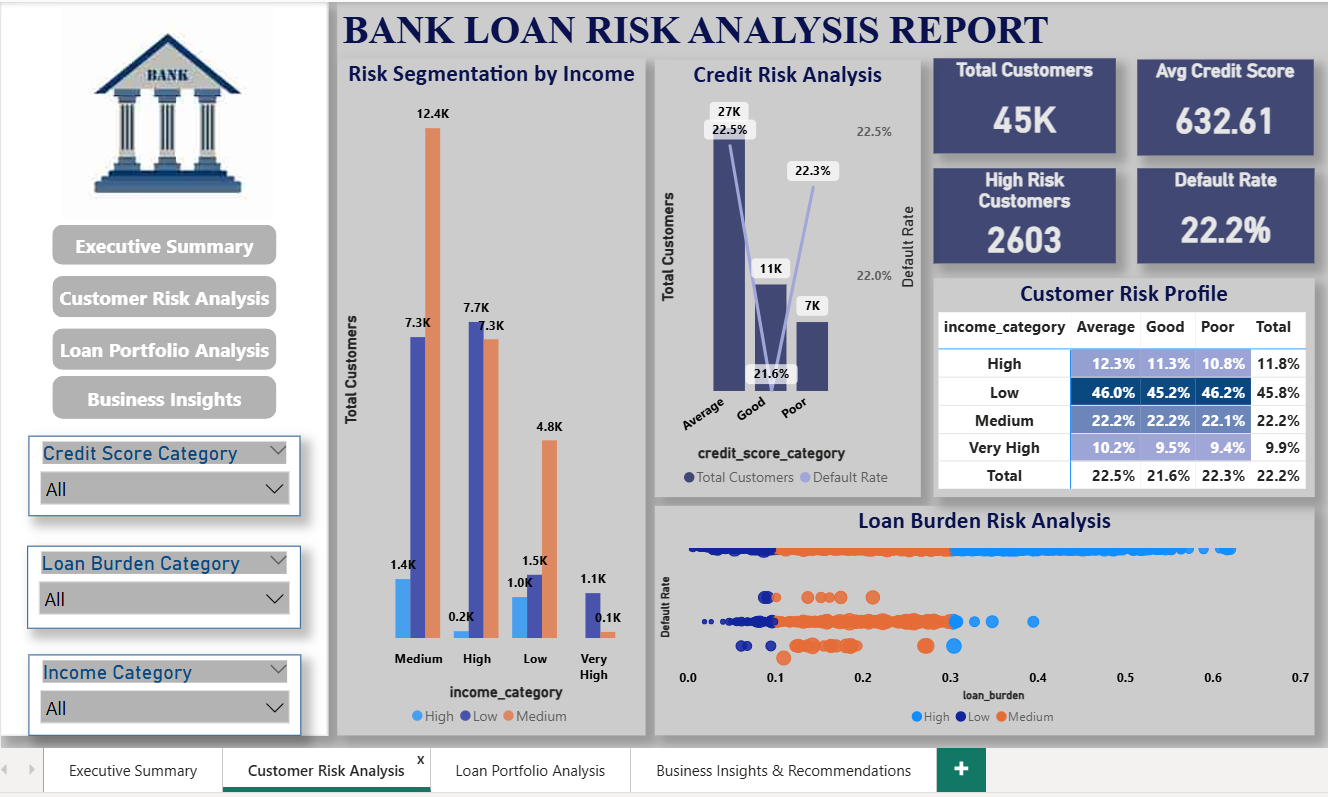

Layout of this report page (visuals, bound fields, positions):
{"tool":"powerbi","page":{"name":"Customer Risk Analysis","canvas":[1280,720],"ordinal":1},"visuals":[{"type":"shape","box":[0,0,316,708.4],"z":0},{"type":"actionButton","box":[49.1,264,216.4,40.4],"z":1000},{"type":"actionButton","box":[49.1,215,216.4,39],"z":2000},{"type":"actionButton","box":[49.1,314.5,216.4,40.4],"z":3000},{"type":"actionButton","box":[49.1,360.7,216.4,41.8],"z":4000},{"type":"image","box":[18.8,0,282.8,215],"z":5000},{"type":"textbox","box":[324.5,0,955.5,54.3],"z":6000},{"type":"slicer","fields":{"Values":["LoanData.credit_score_category"]},"box":[26,418.4,262.6,77.9],"z":7000},{"type":"slicer","fields":{"Values":["LoanData.loan_burden_category"]},"box":[25.3,524.8,264.2,79.6],"z":8000},{"type":"slicer","fields":{"Values":["LoanData.income_category"]},"box":[26.5,629.8,263,78.4],"z":9000},{"type":"card","title":"Total Customers","fields":{"Values":["LoanData.Total Customers"]},"box":[900,54.3,176.1,91.7],"z":10000},{"type":"card","title":"Default Rate","fields":{"Values":["LoanData.Default Rate"]},"box":[1096.7,160.5,171.3,91.7],"z":11000},{"type":"card","title":"Avg Credit Score","fields":{"Values":["LoanData.Average Credit Score"]},"box":[1096.7,55.5,170.1,92.9],"z":12000},{"type":"card","title":"High Risk Customers","fields":{"Values":["LoanData.High Risk Customers"]},"box":[900,160.5,176.1,91.7],"z":13000},{"type":"clusteredColumnChart","title":"Risk Segmentation by Income","fields":{"Category":["LoanData.income_category"],"Series":["LoanData.loan_burden_category"],"Y":["LoanData.Total Customers"]},"box":[324.5,54.3,298,653.9],"z":14000},{"type":"lineClusteredColumnComboChart","title":"Credit Risk Analysis","fields":{"Category":["LoanData.credit_score_category"],"Y2":["LoanData.Default Rate"],"Y":["LoanData.Total Customers"]},"box":[631,55.5,257,422.3],"z":15000},{"type":"scatterChart","title":"Loan Burden Risk Analysis","fields":{"X":["LoanData.loan_burden"],"Y":["LoanData.Default Rate"],"Size":["LoanData.Total Loan Amount"],"Series":["LoanData.loan_burden_category"]},"box":[631,486.2,637,222],"z":16000},{"type":"pivotTable","title":"Customer Risk Profile","fields":{"Rows":["LoanData.income_category"],"Columns":["LoanData.credit_score_category"],"Values":["LoanData.Default Rate"]},"box":[900,266.6,368,211.1],"z":17000}]}

Visuals, with their boxes on the page's 1280x720 design canvas (x1, y1, x2, y2). These are canvas units, not pixel positions in the 1328x797 screenshot, which may show the page scaled, cropped or inside an application window:
shape: [0,0,316,708]
actionButton: [49,264,266,304]
actionButton: [49,215,266,254]
actionButton: [49,314,266,355]
actionButton: [49,361,266,402]
image: [19,0,302,215]
textbox: [324,0,1280,54]
slicer - LoanData.credit_score_category: [26,418,289,496]
slicer - LoanData.loan_burden_category: [25,525,290,604]
slicer - LoanData.income_category: [26,630,290,708]
"Total Customers" card: [900,54,1076,146]
"Default Rate" card: [1097,160,1268,252]
"Avg Credit Score" card: [1097,56,1267,148]
"High Risk Customers" card: [900,160,1076,252]
"Risk Segmentation by Income" clusteredColumnChart: [324,54,622,708]
"Credit Risk Analysis" lineClusteredColumnComboChart: [631,56,888,478]
"Loan Burden Risk Analysis" scatterChart: [631,486,1268,708]
"Customer Risk Profile" pivotTable: [900,267,1268,478]
